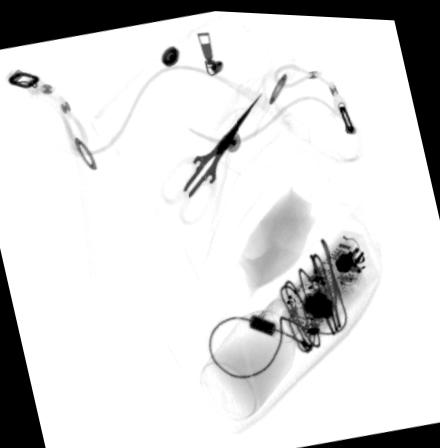Scissors: (159, 90, 260, 227)
